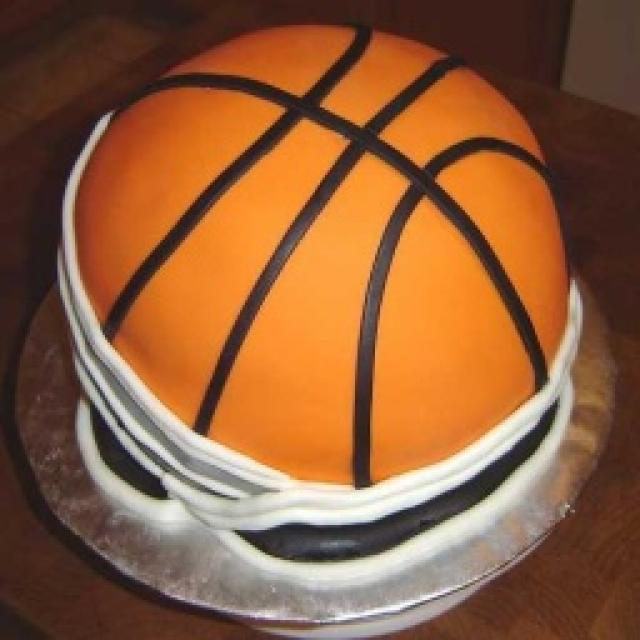rim: (69, 12, 577, 502)
